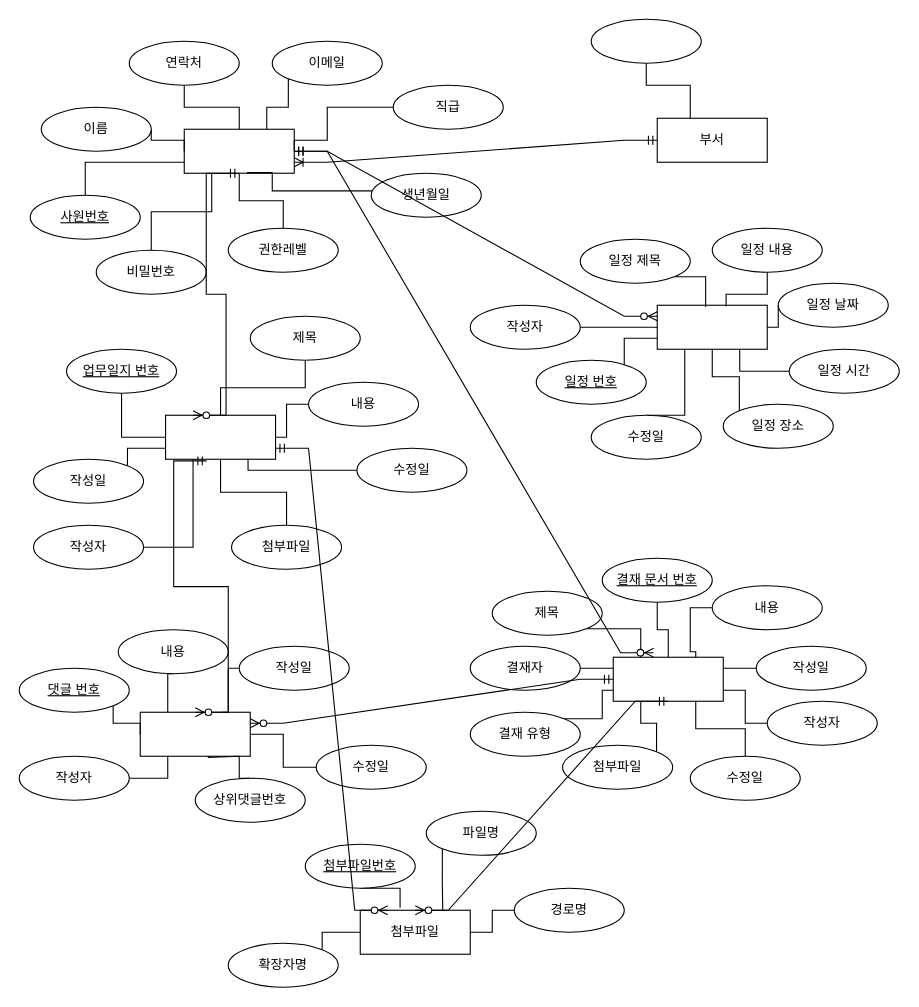
Image size: 919x1007. Some labels were removed from this diagram. The shapes that lost their labels are listed below. From the top down, each one's centre as x and y in pixels, then its label:
the point at 645,40: 부서이름
the point at 238,150: 사용자
the point at 711,326: 일정 (캘린더)
the point at 220,436: 업무일지
the point at 667,678: 결재 문서
the point at 194,733: 댓글
